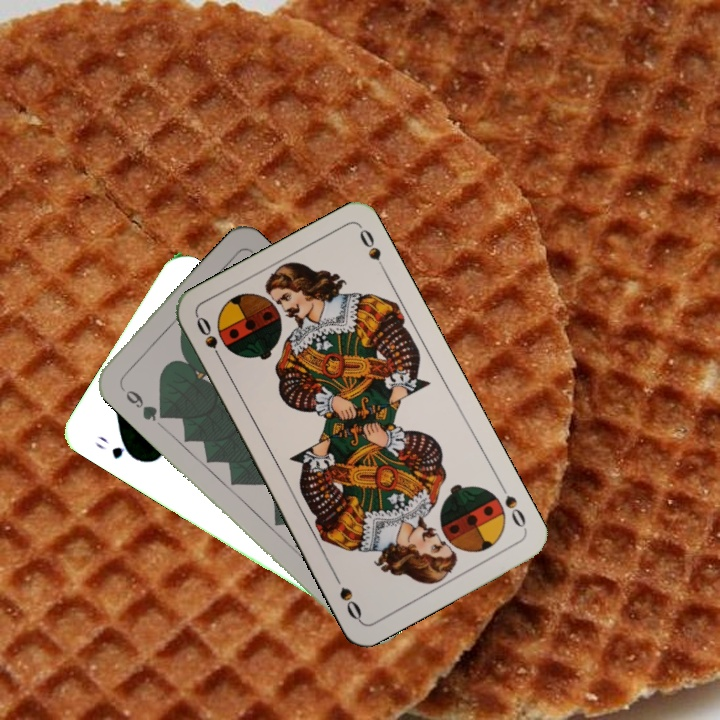G9: (116, 380, 166, 424)
GO: (91, 431, 142, 464)
SO: (192, 312, 227, 367), (495, 479, 530, 533)
